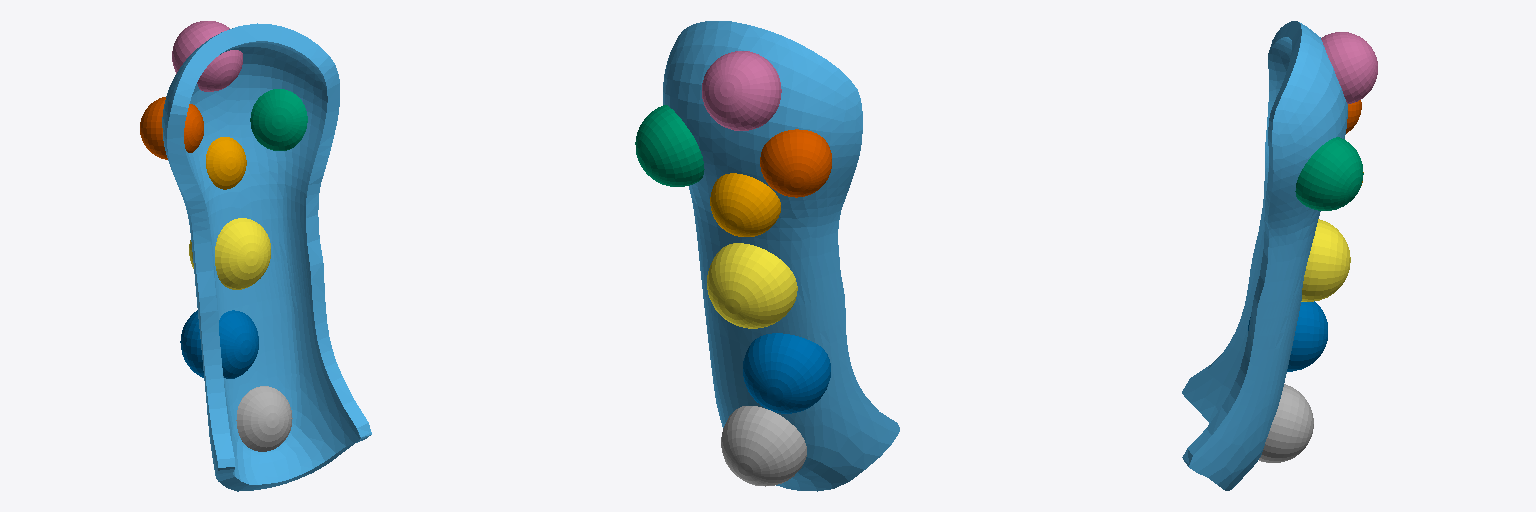
The robot description file, URDF, robot "link5":
<?xml version="1.0" ?>
<!-- =================================================================================== -->
<!-- |    This document was autogenerated by xacro from link5_2.xacro                  | -->
<!-- |    EDITING THIS FILE BY HAND IS NOT RECOMMENDED                                 | -->
<!-- =================================================================================== -->
<robot name="link5">
  <!-- [m] -->
  <link name="calibration_link5/base_link"/>
  <joint name="calibration_link5/base_joint" type="fixed">
    <origin rpy="0 0 0" xyz="0 0 0"/>
    <parent link="calibration_link5/base_link"/>
    <child link="calibration_link5/base_link_inertia"/>
  </joint>
  <link name="calibration_link5/base_link_inertia">
    <visual>
      <origin rpy="0 0 0" xyz="0 0 0"/>
      <geometry>
        <mesh filename="package://gentact_ros_tools/meshes/link5_2.stl" scale="1 1 1"/>
      </geometry>
    </visual>
  </link>
  <joint name="calibration_link5/sensor_0_joint" type="fixed">
    <origin rpy="1.856 -0.000 2.558" xyz="0.034 0.127 -0.019"/>
    <axis xyz="0.529 0.801 -0.281"/>
    <parent link="calibration_link5/base_link"/>
    <child link="calibration_link5/sensor_0"/>
  </joint>
  <link name="calibration_link5/sensor_0">
    <visual>
      <geometry>
        <sphere radius="0.021"/>
        <!-- [m] -->
      </geometry>
    </visual>
    <collision>
      <geometry>
        <sphere radius="0.021"/>
        <!-- [m] -->
      </geometry>
    </collision>
  </link>
  <joint name="calibration_link5/sensor_1_joint" type="fixed">
    <origin rpy="-1.403 3.142 0.049" xyz="-0.004 0.118 -0.089"/>
    <axis xyz="-0.049 0.985 -0.167"/>
    <parent link="calibration_link5/base_link"/>
    <child link="calibration_link5/sensor_1"/>
  </joint>
  <link name="calibration_link5/sensor_1">
    <visual>
      <geometry>
        <sphere radius="0.023"/>
        <!-- [m] -->
      </geometry>
    </visual>
    <collision>
      <geometry>
        <sphere radius="0.023"/>
        <!-- [m] -->
      </geometry>
    </collision>
  </link>
  <joint name="calibration_link5/sensor_2_joint" type="fixed">
    <origin rpy="1.754 0.000 -2.905" xyz="-0.017 0.107 -0.138"/>
    <axis xyz="-0.23 0.956 -0.182"/>
    <parent link="calibration_link5/base_link"/>
    <child link="calibration_link5/sensor_2"/>
  </joint>
  <link name="calibration_link5/sensor_2">
    <visual>
      <geometry>
        <sphere radius="0.022"/>
        <!-- [m] -->
      </geometry>
    </visual>
    <collision>
      <geometry>
        <sphere radius="0.022"/>
        <!-- [m] -->
      </geometry>
    </collision>
  </link>
  <joint name="calibration_link5/sensor_3_joint" type="fixed">
    <origin rpy="1.772 -0.000 -2.583" xyz="-0.035 0.129 -0.011"/>
    <axis xyz="-0.519 0.831 -0.2"/>
    <parent link="calibration_link5/base_link"/>
    <child link="calibration_link5/sensor_3"/>
  </joint>
  <link name="calibration_link5/sensor_3">
    <visual>
      <geometry>
        <sphere radius="0.018"/>
        <!-- [m] -->
      </geometry>
    </visual>
    <collision>
      <geometry>
        <sphere radius="0.018"/>
        <!-- [m] -->
      </geometry>
    </collision>
  </link>
  <joint name="calibration_link5/sensor_4_joint" type="fixed">
    <origin rpy="1.135 -0.000 -3.039" xyz="-0.008 0.136 0.024"/>
    <axis xyz="-0.093 0.902 0.423"/>
    <parent link="calibration_link5/base_link"/>
    <child link="calibration_link5/sensor_4"/>
  </joint>
  <link name="calibration_link5/sensor_4">
    <visual>
      <geometry>
        <sphere radius="0.02"/>
        <!-- [m] -->
      </geometry>
    </visual>
    <collision>
      <geometry>
        <sphere radius="0.02"/>
        <!-- [m] -->
      </geometry>
    </collision>
  </link>
  <joint name="calibration_link5/sensor_5_joint" type="fixed">
    <origin rpy="-1.262 3.142 0.019" xyz="-0.000 0.099 -0.185"/>
    <axis xyz="-0.018 0.952 -0.304"/>
    <parent link="calibration_link5/base_link"/>
    <child link="calibration_link5/sensor_5"/>
  </joint>
  <link name="calibration_link5/sensor_5">
    <visual>
      <geometry>
        <sphere radius="0.022"/>
        <!-- [m] -->
      </geometry>
    </visual>
    <collision>
      <geometry>
        <sphere radius="0.022"/>
        <!-- [m] -->
      </geometry>
    </collision>
  </link>
  <joint name="calibration_link5/sensor_6_joint" type="fixed">
    <origin rpy="-1.229 3.142 0.054" xyz="-0.007 0.130 -0.039"/>
    <axis xyz="-0.051 0.941 -0.335"/>
    <parent link="calibration_link5/base_link"/>
    <child link="calibration_link5/sensor_6"/>
  </joint>
  <link name="calibration_link5/sensor_6">
    <visual>
      <geometry>
        <sphere radius="0.018"/>
        <!-- [m] -->
      </geometry>
    </visual>
    <collision>
      <geometry>
        <sphere radius="0.018"/>
        <!-- [m] -->
      </geometry>
    </collision>
  </link>
</robot>

--- What the picture shows (computed from the rendered views, not written in the file) ---
The picture shows the robot from 3 angles, left to right: view 1: azimuth 30°, elevation 25°; view 2: azimuth 150°, elevation 25°; view 3: azimuth 270°, elevation 25°; orthographic projection.
Model link5 with 9 links and 8 joints (8 fixed), rooted at calibration_link5/base_link, posed all joints at 0.
Links seen in each view (by area): view 1: calibration_link5/base_link_inertia, calibration_link5/sensor_1, calibration_link5/sensor_2, calibration_link5/sensor_5, calibration_link5/sensor_0, calibration_link5/sensor_4, calibration_link5/sensor_3, calibration_link5/sensor_6; view 2: calibration_link5/base_link_inertia, calibration_link5/sensor_1, calibration_link5/sensor_2, calibration_link5/sensor_5, calibration_link5/sensor_4, calibration_link5/sensor_0, calibration_link5/sensor_3, calibration_link5/sensor_6; view 3: calibration_link5/base_link_inertia, calibration_link5/sensor_0, calibration_link5/sensor_1, calibration_link5/sensor_4, calibration_link5/sensor_5, calibration_link5/sensor_2.
Link boxes in pixels (bbox=[...]): calibration_link5/base_link_inertia: bbox=[162, 23, 371, 491]; calibration_link5/sensor_1: bbox=[189, 218, 270, 289]; calibration_link5/sensor_2: bbox=[180, 310, 258, 378]; calibration_link5/sensor_5: bbox=[236, 386, 292, 451]; calibration_link5/sensor_0: bbox=[250, 89, 307, 150]; calibration_link5/sensor_4: bbox=[172, 21, 242, 91]; calibration_link5/sensor_3: bbox=[140, 97, 203, 159]; calibration_link5/sensor_6: bbox=[206, 137, 246, 189]; calibration_link5/base_link_inertia: bbox=[663, 21, 899, 491]; calibration_link5/sensor_1: bbox=[707, 243, 797, 328]; calibration_link5/sensor_2: bbox=[743, 333, 830, 413]; calibration_link5/sensor_5: bbox=[721, 406, 806, 486]; calibration_link5/sensor_4: bbox=[702, 51, 781, 130]; calibration_link5/sensor_0: bbox=[635, 105, 704, 186]; calibration_link5/sensor_3: bbox=[760, 129, 831, 197]; calibration_link5/sensor_6: bbox=[710, 173, 780, 236]; calibration_link5/base_link_inertia: bbox=[1182, 21, 1347, 490]; calibration_link5/sensor_0: bbox=[1295, 137, 1363, 210]; calibration_link5/sensor_1: bbox=[1301, 219, 1350, 301]; calibration_link5/sensor_4: bbox=[1321, 32, 1377, 103]; calibration_link5/sensor_5: bbox=[1259, 384, 1313, 462]; calibration_link5/sensor_2: bbox=[1248, 301, 1327, 371].
Bounding box of the posed robot: 0.1117 × 0.1069 × 0.2686 m (x, y, z).
Meshes: 1 distinct files referenced, 1 mesh visuals loaded (1 binary STL).